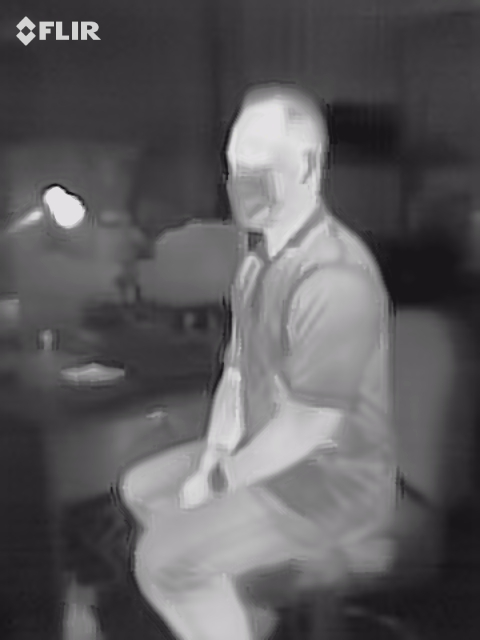head: (224, 84, 328, 234)
